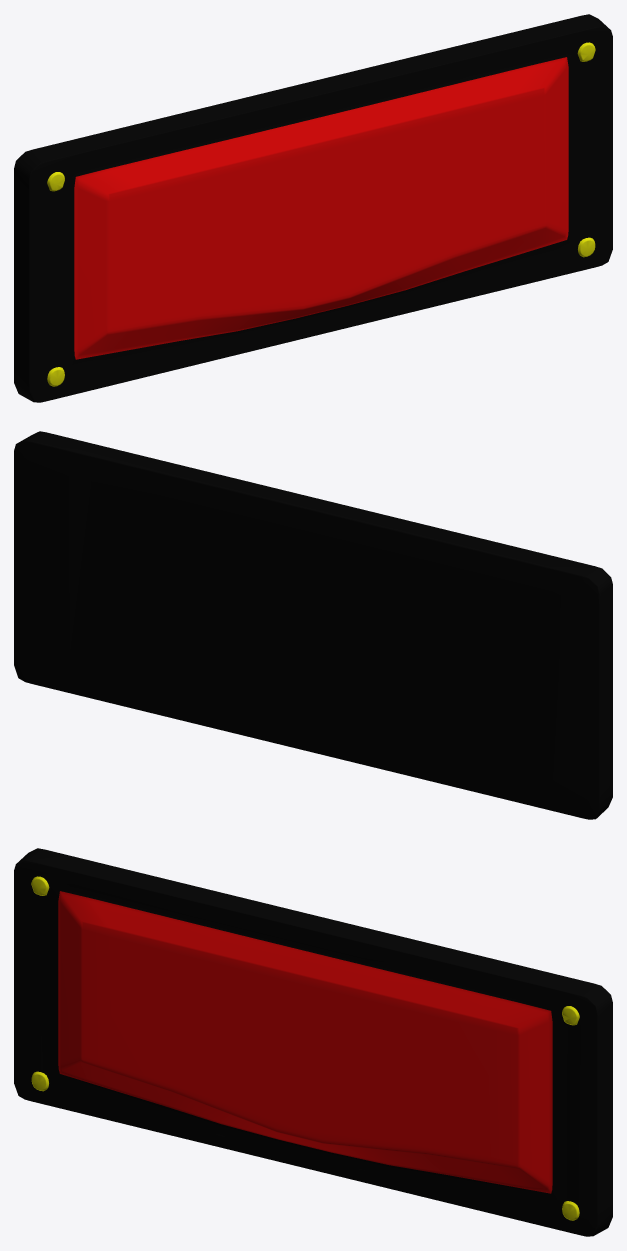
Rendered from SM_NancyPlaque.fbx.
3 renders of one model, top to bottom at view 1: azimuth 30°, elevation 25°; view 2: azimuth 150°, elevation 25°; view 3: azimuth 330°, elevation 25°, orthographic.
Parts seen in each view (by area): view 1: Plaque_HighRes; view 2: Plaque_HighRes; view 3: Plaque_HighRes.
Part boxes in pixels (x1,y1,x2,y2): Plaque_HighRes: [14, 14, 612, 402]; Plaque_HighRes: [14, 431, 612, 819]; Plaque_HighRes: [14, 848, 612, 1236].
Size of the model in its own units: 38 by 15.06 by 2.33.
